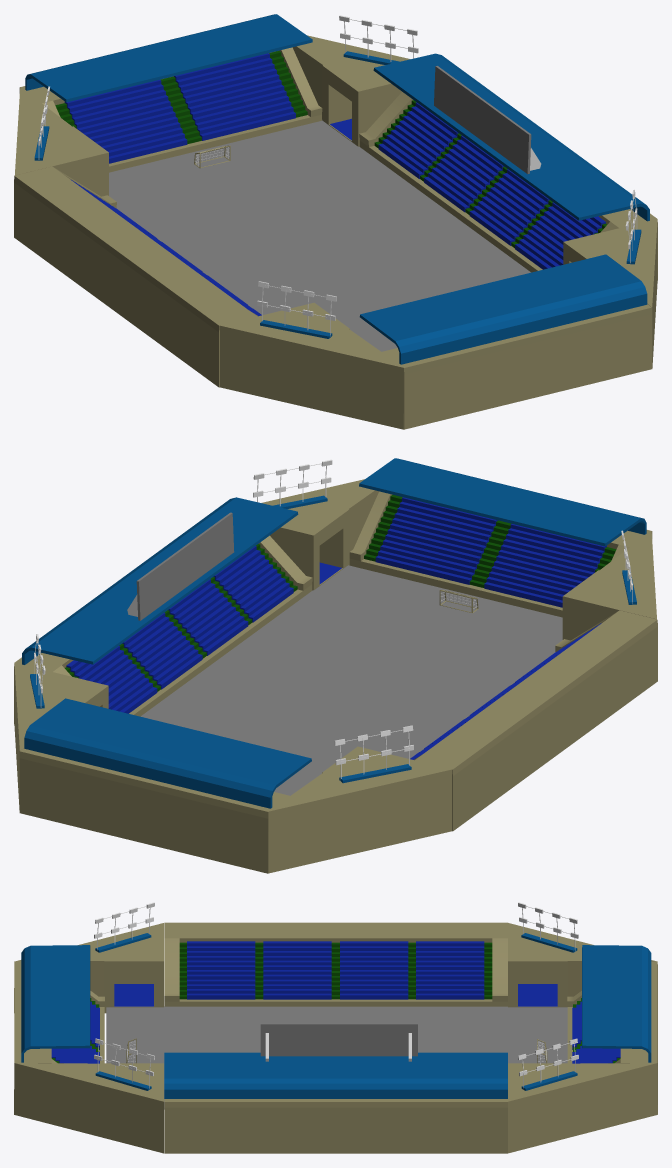
The model's file is stadium3.FBX.
The picture shows the model from 3 angles, top to bottom: view 1: azimuth 30°, elevation 25°; view 2: azimuth 150°, elevation 25°; view 3: azimuth 270°, elevation 25°; orthographic projection. The views are drawn at different scales.
Parts seen in each view (by area): view 1: Box158, Box220, Box214, Box239, Box221, Box211, Box247, Line048, Line052, Box219, Box223, Box238 (+9 smaller); view 2: Box158, Box220, Box229, Box247, Box223, Box211, Box239, Line047, Line046, Box215, Box221, Box238 (+9 smaller); view 3: Box218, Box158, Box211, Box220, Box215, Box219, Box247, Box239, Box238, Box221, Box223, Line044 (+11 smaller).
Part boxes in pixels (x1,y1,x2,y2): Box158: (109,120,530,351); Box220: (14,166,257,387); Box214: (382,304,652,429); Box239: (359,254,647,364); Box221: (220,302,404,429); Box211: (373,53,649,221); Box247: (25,14,312,102); Line048: (174,53,295,140); Line052: (64,79,187,163); Box219: (292,35,410,146); Box223: (14,87,108,196); Box238: (434,66,531,174); Box158: (141,565,562,795); Box220: (414,610,657,831); Box229: (19,748,289,873); Box247: (24,698,311,808); Box223: (268,746,451,873); Box211: (22,497,298,664); Box239: (359,458,646,546); Line047: (375,497,497,584); Line046: (484,524,606,607); Box215: (261,479,378,590); Box221: (562,531,656,640); Box238: (136,512,234,620); Box218: (164,1099,507,1153); Box158: (106,1006,567,1109); Box211: (164,1052,507,1098); Box220: (164,922,507,1006); Box215: (14,1063,163,1153); Box219: (508,1063,657,1153); Box247: (582,945,651,1062); Box239: (21,945,90,1062); Box238: (260,1023,417,1056); Box221: (14,923,163,1013); Box223: (508,923,657,1007); Line044: (416,941,484,999).
Size of the model in its own units: 268 by 70.44 by 406.
